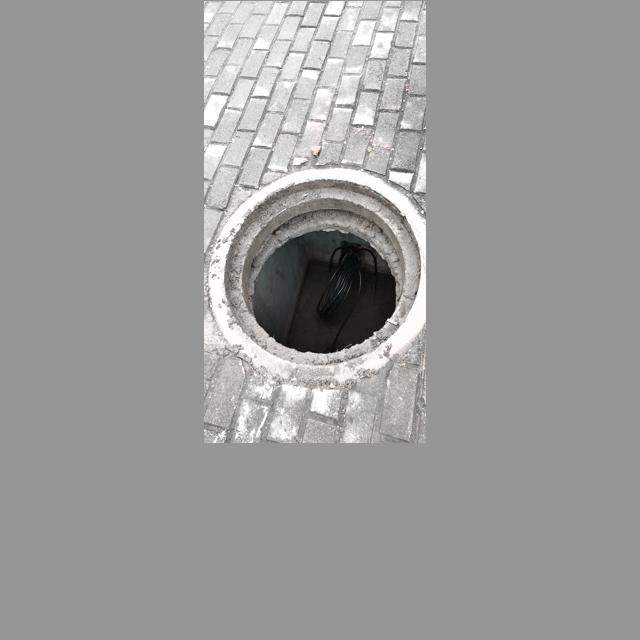lose: (209, 165, 426, 388)
